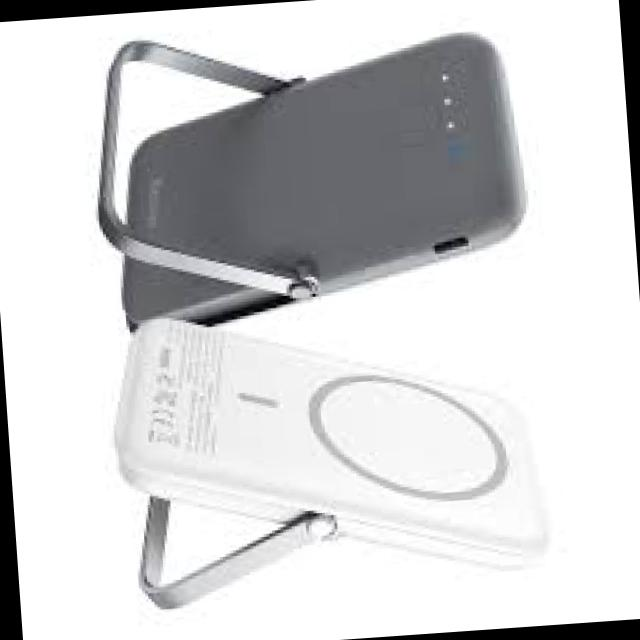power_bank: (98, 21, 543, 346), (106, 286, 555, 598)
